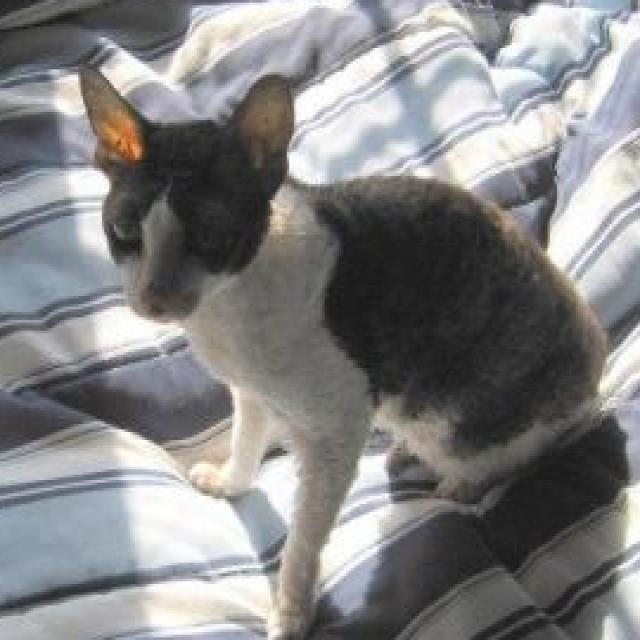Cornish Rex: (73, 58, 613, 640)
